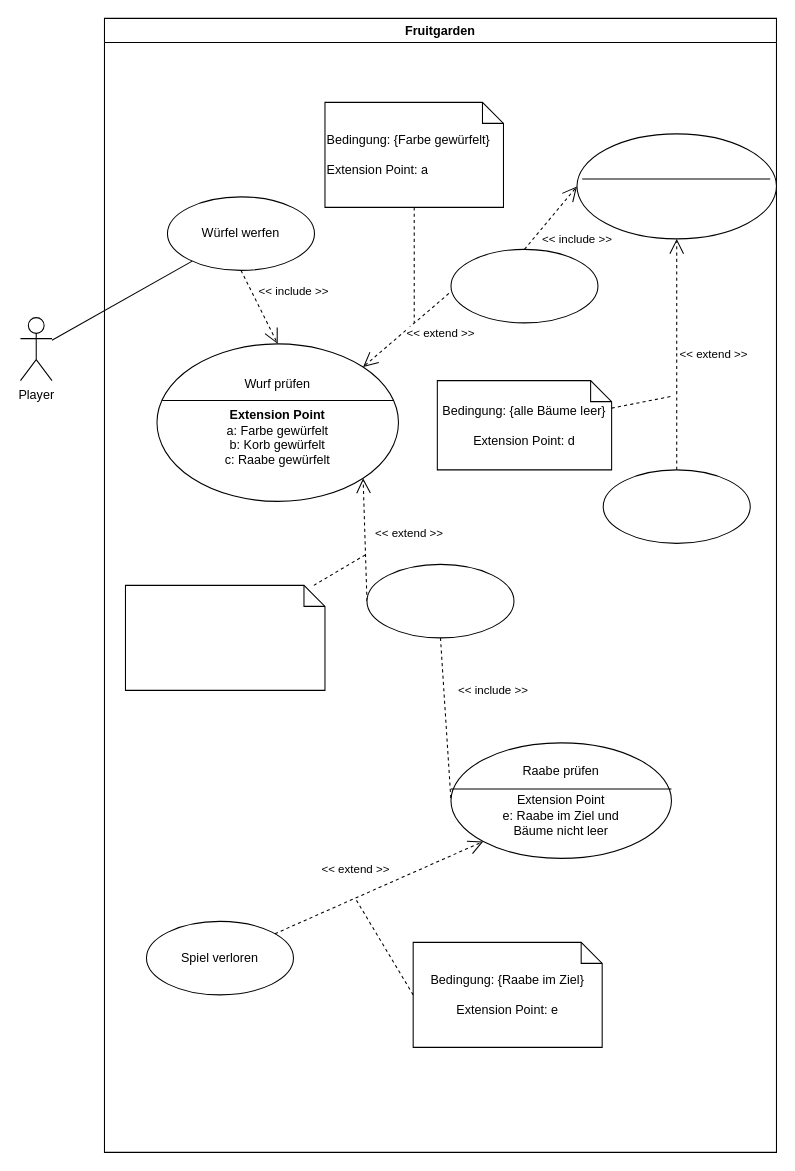
The diagram is 795 pixels wide and 1171 high, and some of its shapes have lost their labels. The shapes that lost their labels are listed below. From the top down, each one's centre as x and y in pixels, then its label:
At point (676, 186): "Bäume prüfen Extension Point d: Bäume leer und Raabe nicht im Ziel".
At point (524, 285): "Frucht entfernen".
At point (676, 506): "Spiel gewonnen".
At point (440, 600): "Raabe bewegen".
At point (224, 637): "Bedingung: {Raabe gewürfelt} Extension Point: c".
